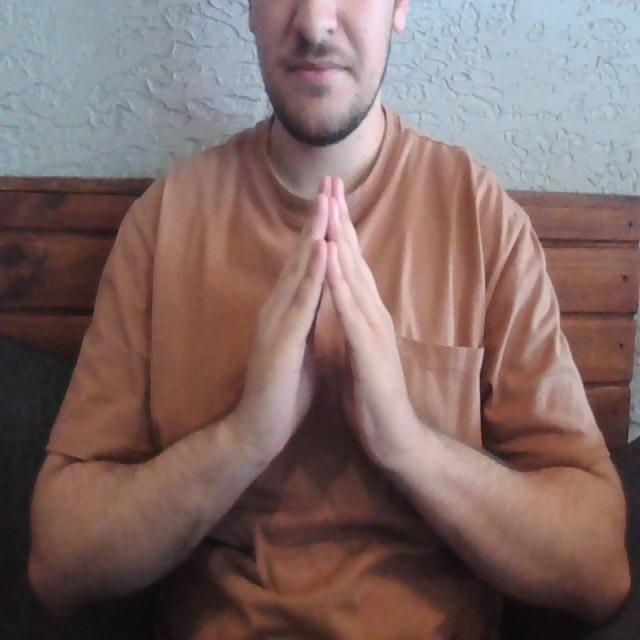Ev: (233, 170, 433, 466)
